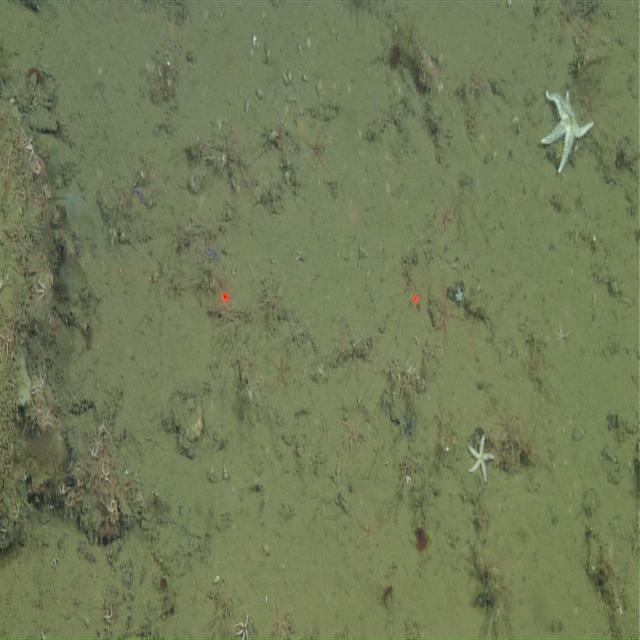Brittle Star: (298, 120, 334, 180), (34, 277, 51, 307)
Not Brittle Star: (537, 84, 596, 178), (466, 430, 496, 486), (412, 522, 431, 554), (455, 287, 464, 303)
